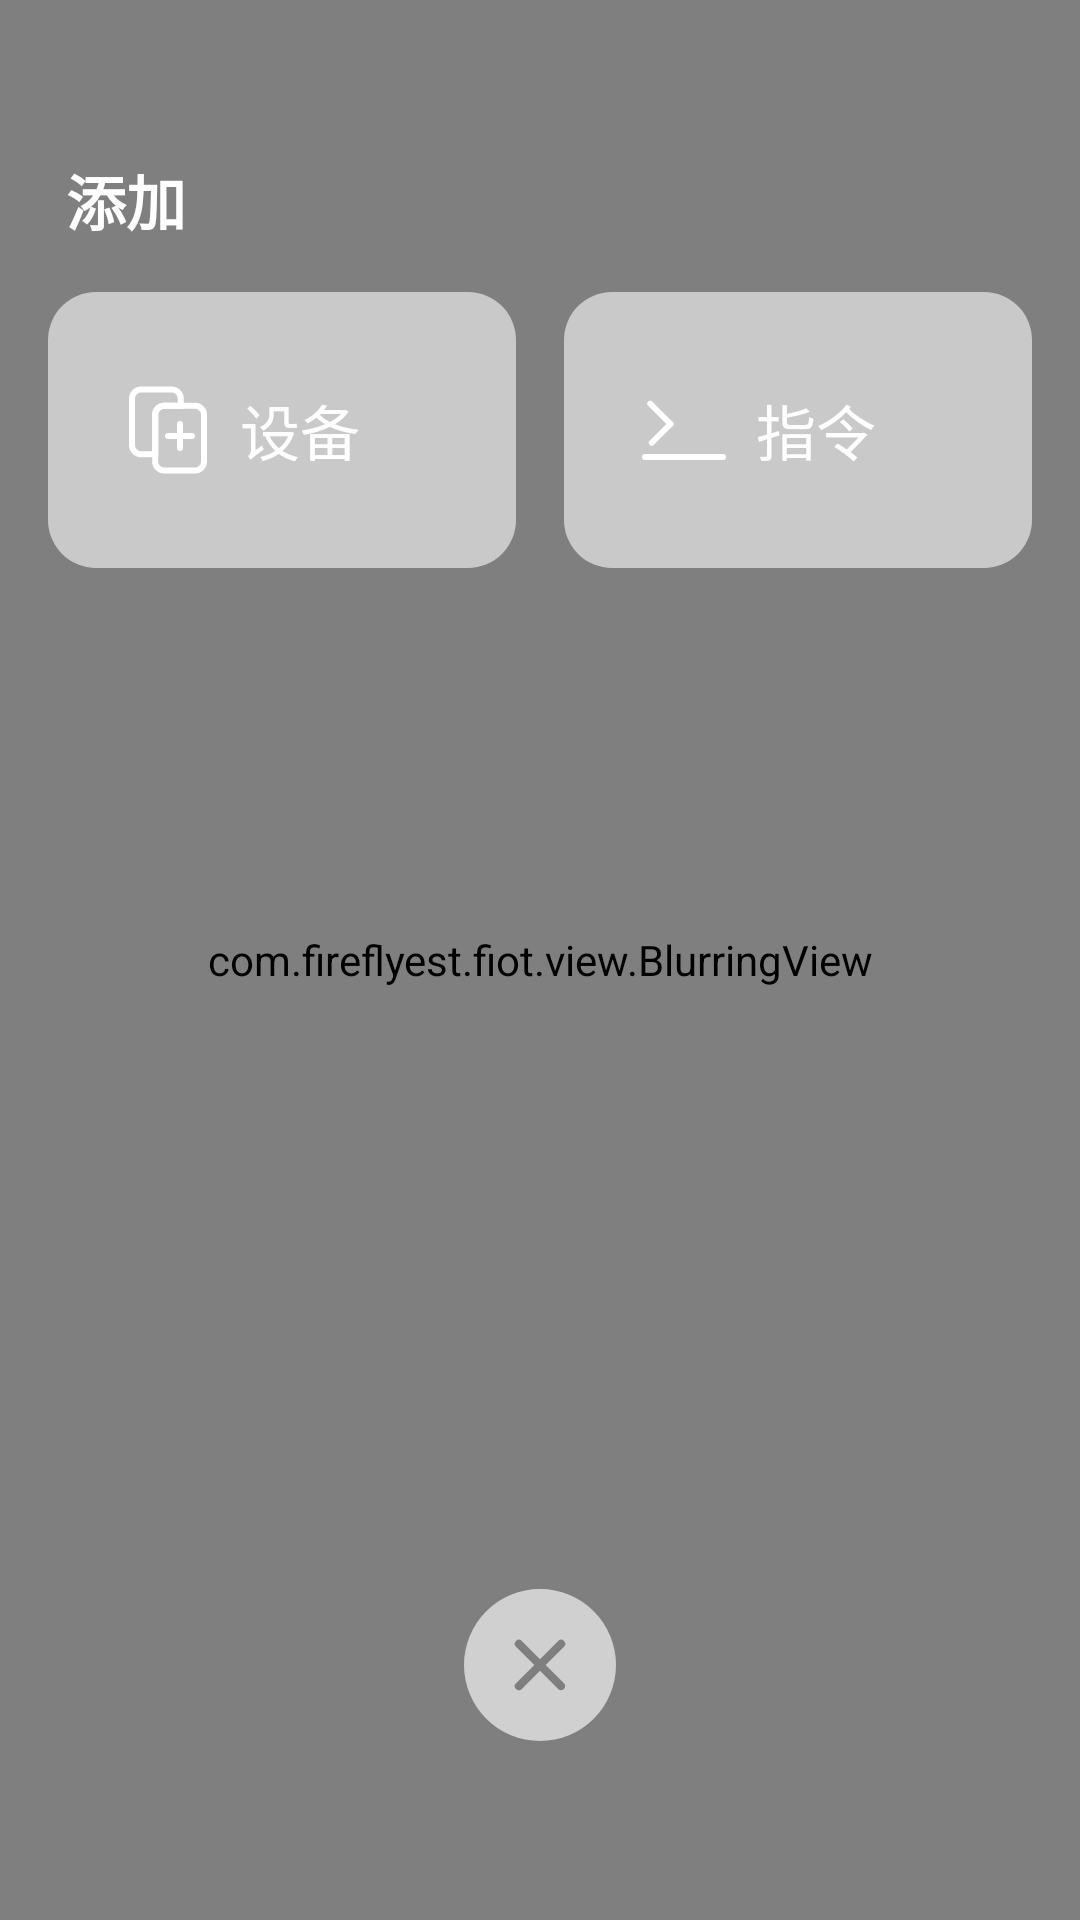

Icons on this 1080px×1920px Android screen, each with the point to tap as (x,y):
关闭: (540,1665)
